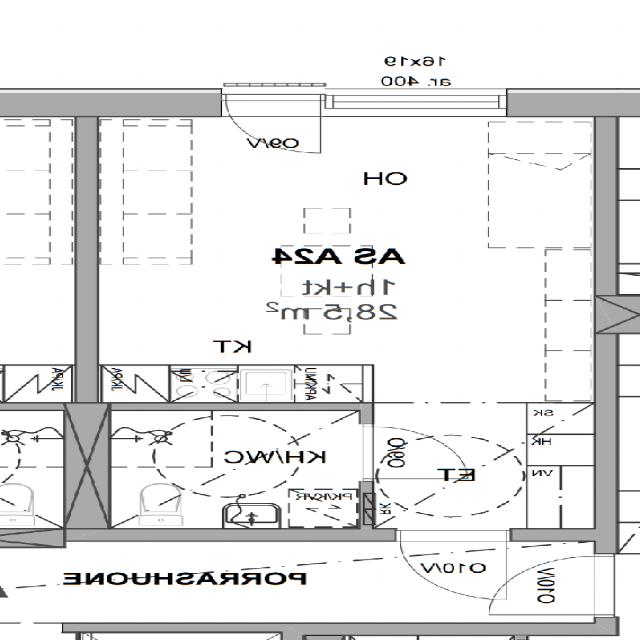door: (402, 528, 507, 600), (228, 88, 320, 168), (363, 427, 466, 478)
